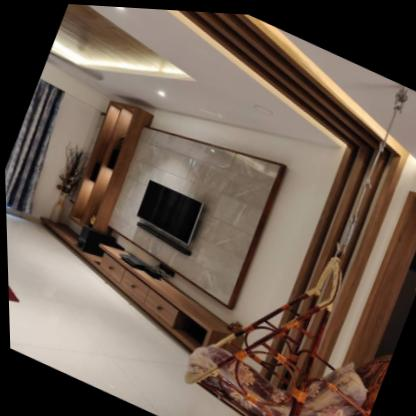Ceramic floor: (5, 213, 241, 416)
Curtains: (4, 78, 62, 214)
Wall Panel: (37, 93, 404, 416)
